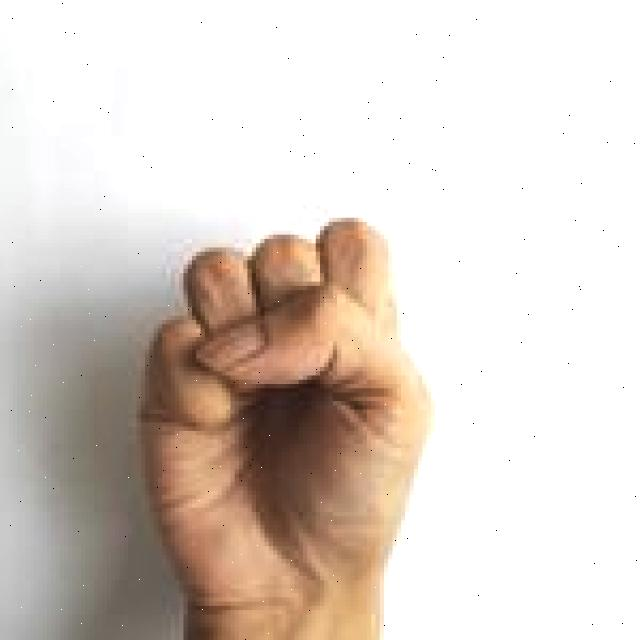S: (123, 212, 437, 640)
